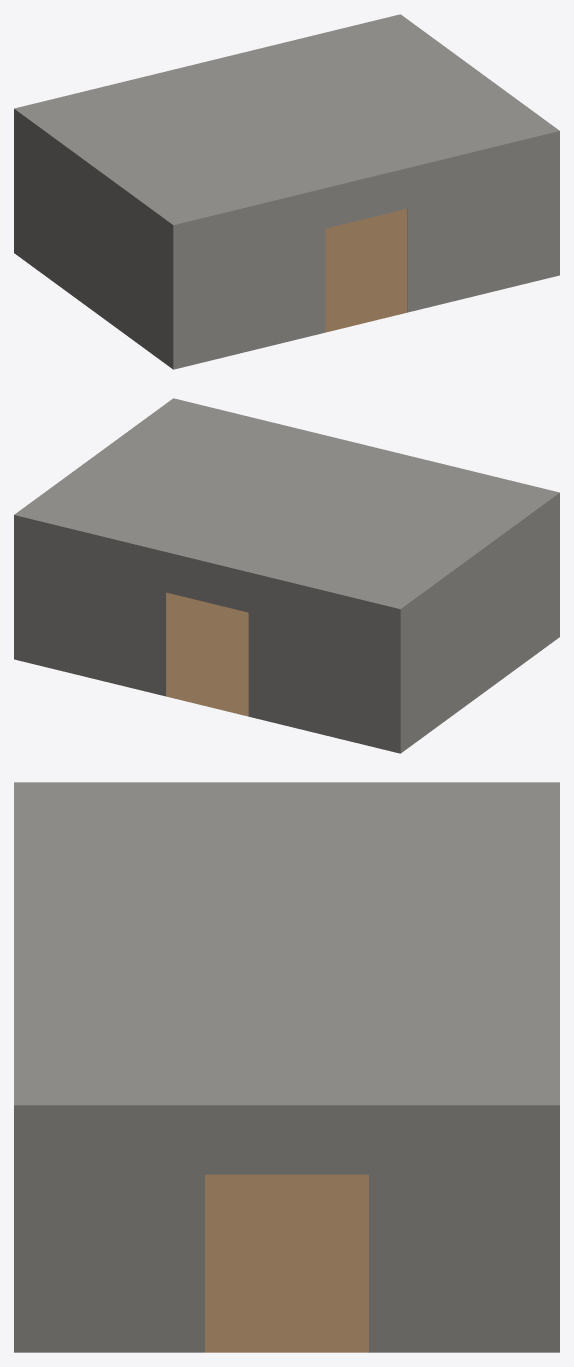
File: entrance-gallery.glb
3 renders of one model, top to bottom at view 1: azimuth 30°, elevation 25°; view 2: azimuth 150°, elevation 25°; view 3: azimuth 270°, elevation 25°, orthographic. The views are drawn at different scales.
Parts seen in each view (by area): view 1: entrance-gallery; view 2: entrance-gallery; view 3: entrance-gallery.
Part boxes in pixels (x1,y1,x2,y2): entrance-gallery: (14,14,559,369); entrance-gallery: (14,398,559,753); entrance-gallery: (14,782,559,1352).
Size of the model in its own units: 14 by 5 by 10.
